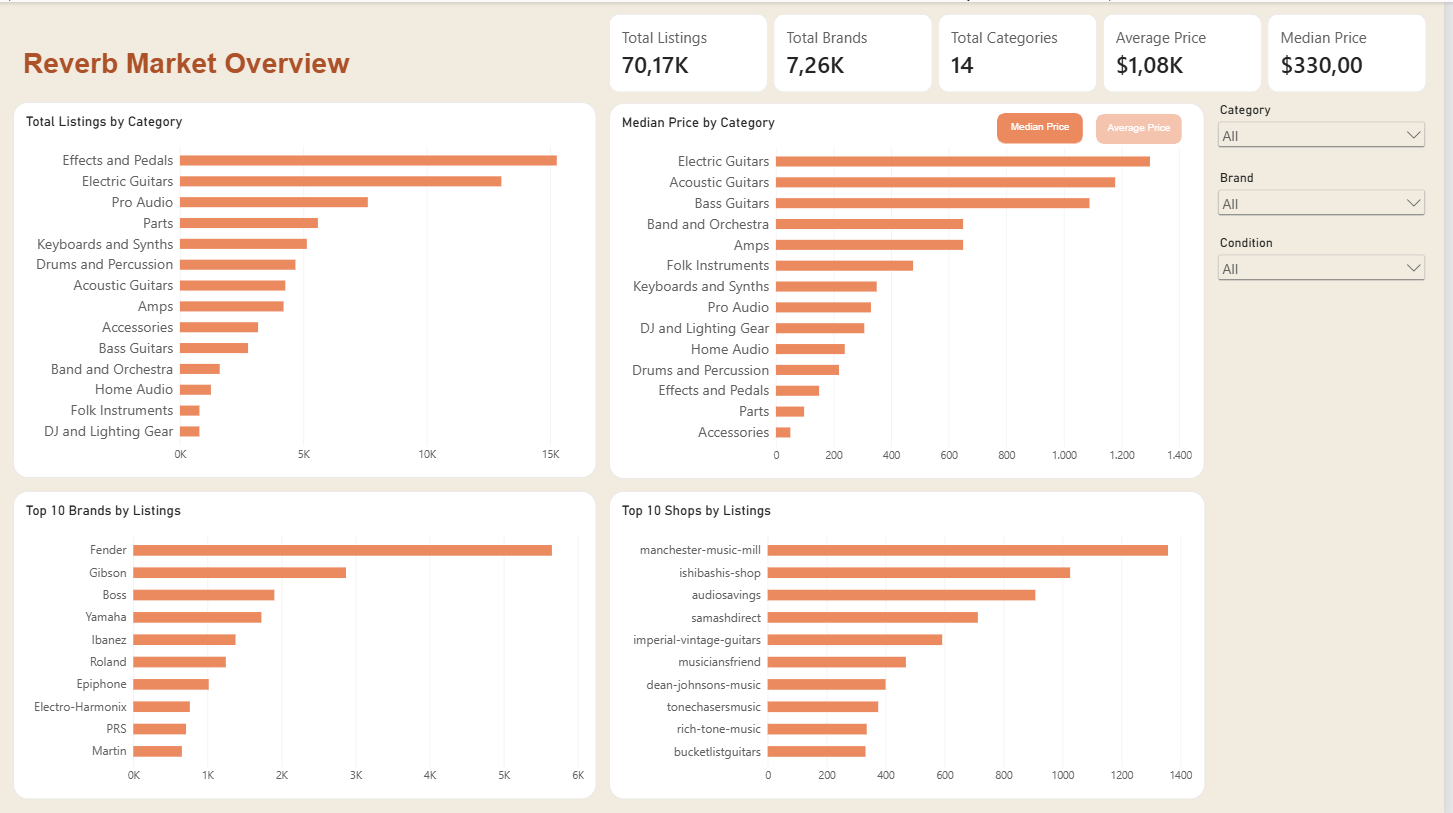

The page's visual inventory and layout, read from the dashboard file:
{"tool":"powerbi","page":{"name":"Market Overview","canvas":[1920,1080],"ordinal":0},"visuals":[{"type":"cardVisual","title":"KPI Card","fields":{"Data":["metrics.total_listings","metrics.total_brands","metrics.total_categories","metrics.Average_price","metrics.median_price"]},"box":[810.6,16.3,1090.4,104.6],"z":0},{"type":"slicer","title":"category slicer","fields":{"Values":["public vw_listings_analysis.category"]},"box":[1614.5,133.1,286,61.3],"z":0,"group":"g2"},{"type":"actionButton","title":"unselected avg price","box":[1458.5,148.4,114.4,39.9],"z":0,"group":"g4"},{"type":"actionButton","title":"unselected m price","box":[1326.6,149.4,114.4,39.9],"z":0,"group":"g3"},{"type":"clusteredBarChart","title":"Total Listings by Category","fields":{"Category":["public vw_listings_analysis.category"],"Y":["metrics.total_listings"]},"box":[17.5,132.8,776.2,500.4],"z":1000},{"type":"actionButton","title":"selected m price","box":[1326.6,148,114.4,39.9],"z":1000,"group":"g3"},{"type":"slicer","title":"condition slicer","fields":{"Values":["public vw_listings_analysis.condition"]},"box":[1614.5,309.6,286,75.9],"z":1000,"group":"g2"},{"type":"group","id":"g1","title":"Avg Median Category","box":[810.6,133.1,792.2,501.8],"z":1500},{"type":"slicer","title":"brand slicer","fields":{"Values":["brand_table.make"]},"box":[1614.5,223.6,286,64.2],"z":2000,"group":"g2"},{"type":"clusteredBarChart","title":"Top 10 Brands by Listings","fields":{"Category":["brand_table.make"],"Y":["metrics.Total Listings Known Brands"]},"box":[17.5,650.7,776.2,410],"z":2000},{"type":"clusteredBarChart","title":"Top 10 Shops by Listings","fields":{"Category":["public vw_listings_analysis.shop"],"Y":["metrics.total_listings"]},"box":[810.6,650.4,793,410.1],"z":3000},{"type":"textbox","title":"Title","box":[31.2,59.7,458.1,61.3],"z":4000},{"type":"clusteredBarChart","title":"Median Price by Category","fields":{"Category":["public vw_listings_analysis.category"],"Y":["metrics.median_price"]},"box":[810.6,134.5,792.2,500.4],"z":5000,"group":"g1"},{"type":"group","id":"g2","title":"Group 1","box":[1614.5,133.1,286.5,252.6],"z":7000},{"type":"group","id":"g3","title":"m button","box":[1326.6,148,114.4,41.3],"z":8000,"group":"g1"},{"type":"group","id":"g4","title":"avg button","box":[1458.1,148.4,115.1,39.4],"z":9000,"group":"g1"}]}

Visuals, with their boxes in screenshot pixels (x1, y1, x2, y2), scaled from the page's 1920x1080 canvas onto the 1453x813 screenshot:
"KPI Card" cardVisual: bbox(613, 12, 1439, 91)
"category slicer" slicer: bbox(1222, 100, 1438, 146)
"unselected avg price" actionButton: bbox(1104, 112, 1190, 142)
"unselected m price" actionButton: bbox(1004, 112, 1091, 143)
"Total Listings by Category" clusteredBarChart: bbox(13, 100, 601, 477)
"selected m price" actionButton: bbox(1004, 111, 1091, 141)
"condition slicer" slicer: bbox(1222, 233, 1438, 290)
"Avg Median Category" group: bbox(613, 100, 1213, 478)
"brand slicer" slicer: bbox(1222, 168, 1438, 217)
"Top 10 Brands by Listings" clusteredBarChart: bbox(13, 490, 601, 798)
"Top 10 Shops by Listings" clusteredBarChart: bbox(613, 490, 1214, 798)
"Title" textbox: bbox(24, 45, 370, 91)
"Median Price by Category" clusteredBarChart: bbox(613, 101, 1213, 478)
"Group 1" group: bbox(1222, 100, 1439, 290)
"m button" group: bbox(1004, 111, 1091, 143)
"avg button" group: bbox(1103, 112, 1191, 141)
